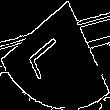L_NE: (33, 28, 77, 82)
